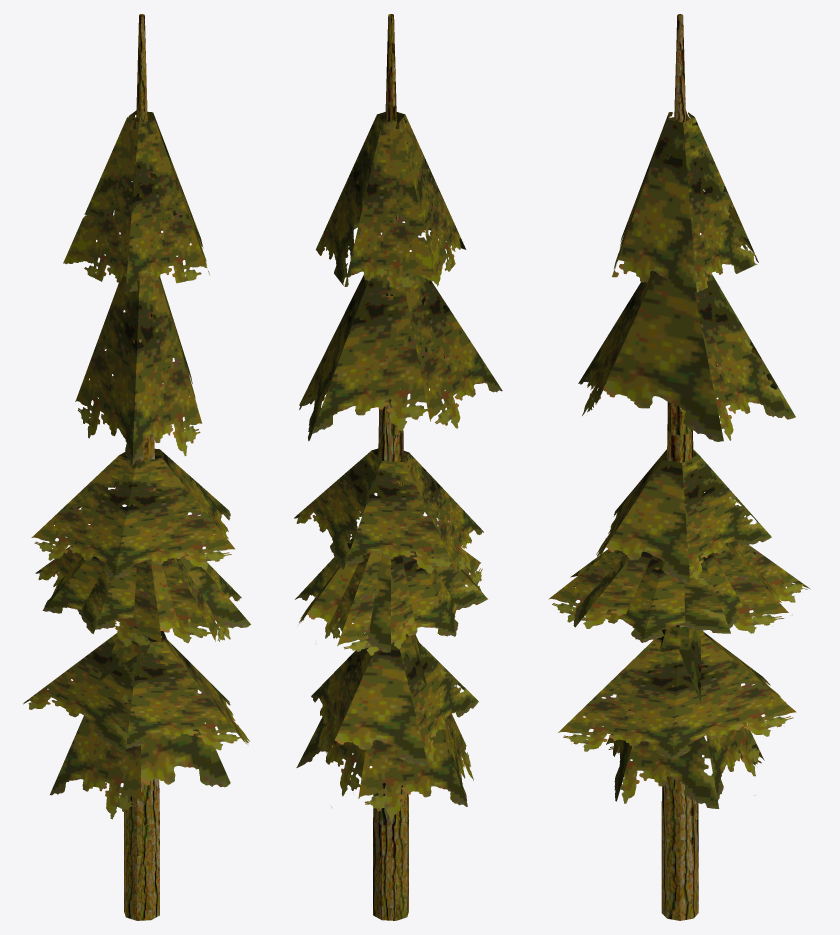
File: Tree2VAR_2.fbx
3 views of the same model, side by side, from view 1: azimuth 30°, elevation 25°; view 2: azimuth 150°, elevation 25°; view 3: azimuth 270°, elevation 25° (orthographic).
Visible parts, largest first — view 1: Tree; view 2: Tree; view 3: Tree.
Boxes of the visible parts, left/top/right/bottom form: Tree: left=23, top=14, right=250, bottom=920; Tree: left=294, top=14, right=502, bottom=920; Tree: left=548, top=14, right=810, bottom=920.
Size of the model in its own units: 322 by 1409 by 415.
Materials: 2 (2 with a texture image).
